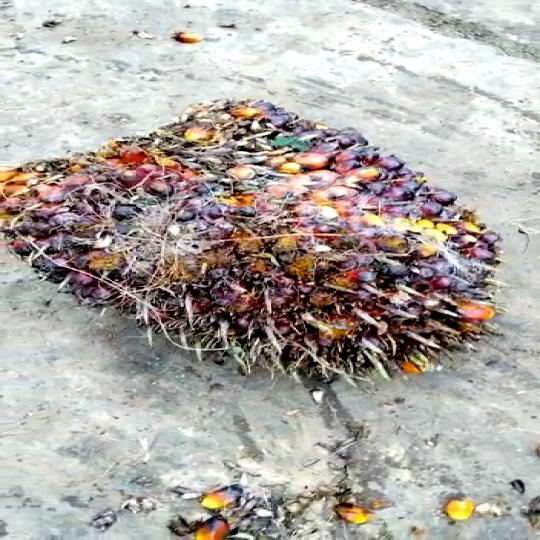masak: (0, 97, 517, 401)
